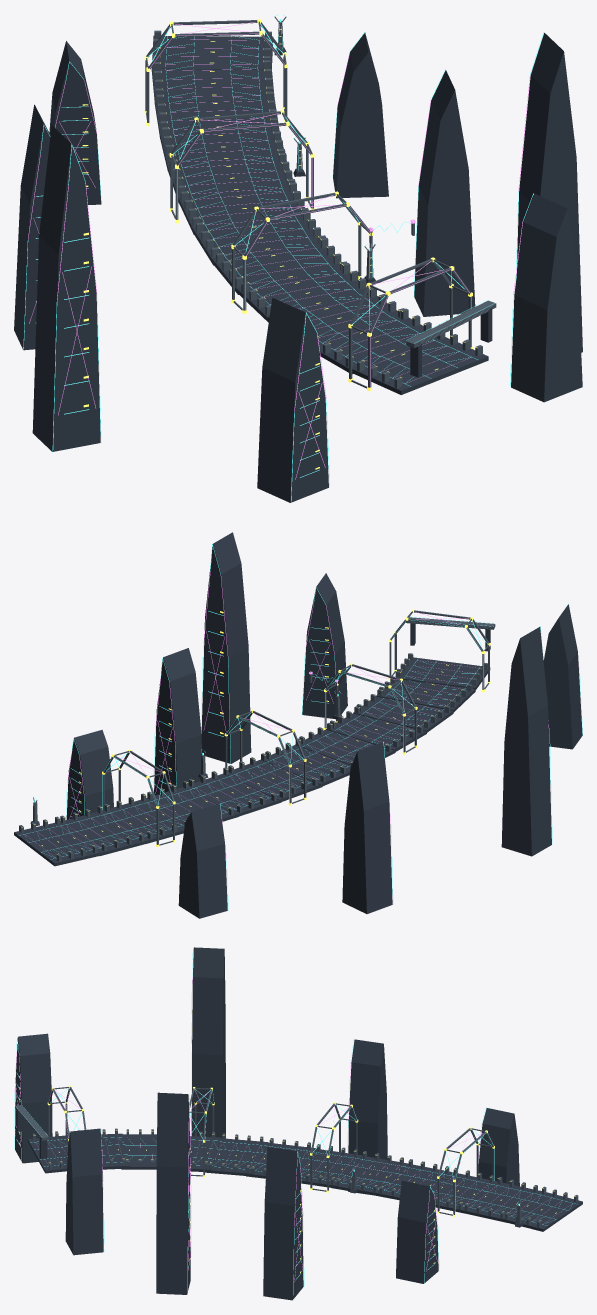
File: route_batch_13.glb
The picture shows the model from 3 angles, top to bottom: view 1: azimuth 30°, elevation 25°; view 2: azimuth 150°, elevation 25°; view 3: azimuth 270°, elevation 25°; orthographic projection. The views are drawn at different scales.
Visible parts, largest first — view 1: route_batch_13; view 2: route_batch_13; view 3: route_batch_13.
Boxes of the visible parts, x1,y1,x2,y2 form: route_batch_13: (14, 14, 582, 503); route_batch_13: (14, 532, 582, 918); route_batch_13: (14, 947, 582, 1300).
Bounding box in the file's own units: 514 × 307 × 770.
